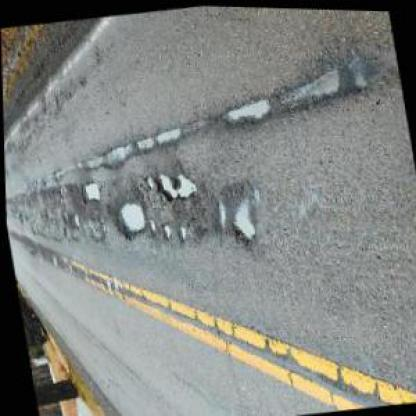pothole: (276, 62, 344, 108), (151, 166, 198, 204), (220, 94, 272, 125), (107, 198, 144, 238), (224, 198, 254, 244), (95, 142, 132, 169), (150, 123, 181, 147), (76, 179, 101, 202), (211, 198, 227, 230), (157, 220, 172, 238), (174, 222, 184, 240), (68, 211, 79, 227), (144, 218, 156, 232)
